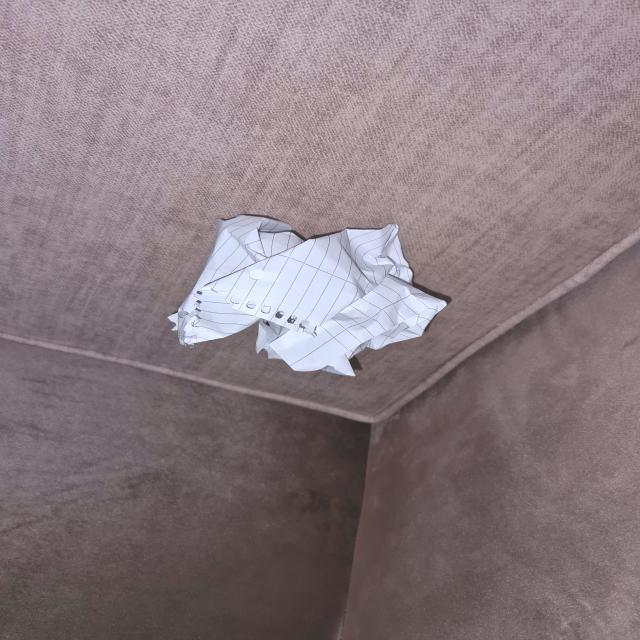Paper: (143, 194, 469, 397)
